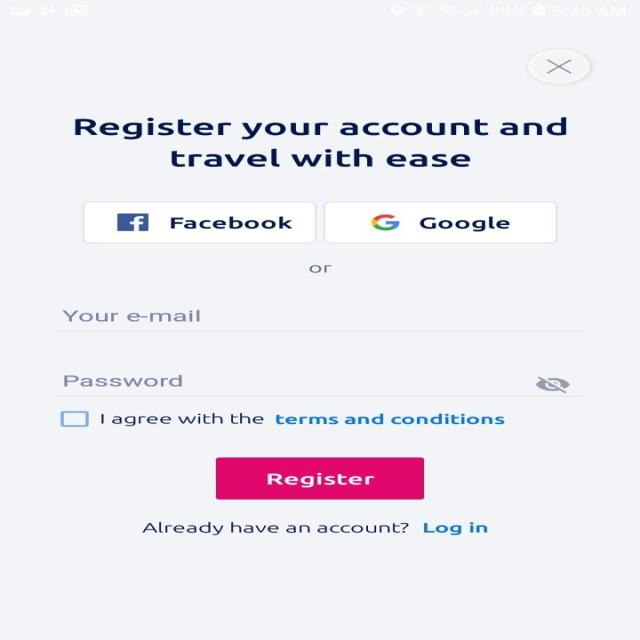EditText: (55, 309, 584, 332), (55, 374, 584, 396)
Icon: (527, 49, 590, 85), (535, 375, 570, 393)
Text: (74, 116, 566, 168), (100, 413, 505, 426), (141, 521, 409, 535), (62, 310, 200, 322), (63, 374, 182, 387), (422, 522, 487, 535), (308, 265, 332, 273)
TextButton: (323, 201, 558, 243), (82, 201, 316, 243), (216, 458, 424, 500)
